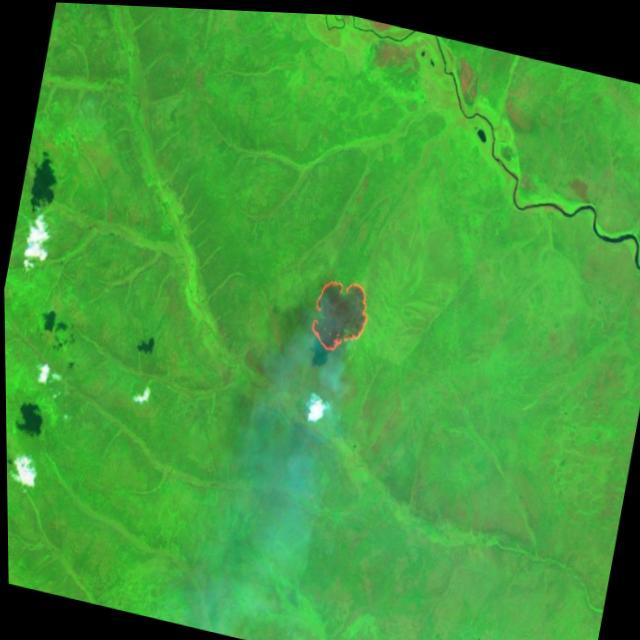fire: (301, 264, 378, 361)
